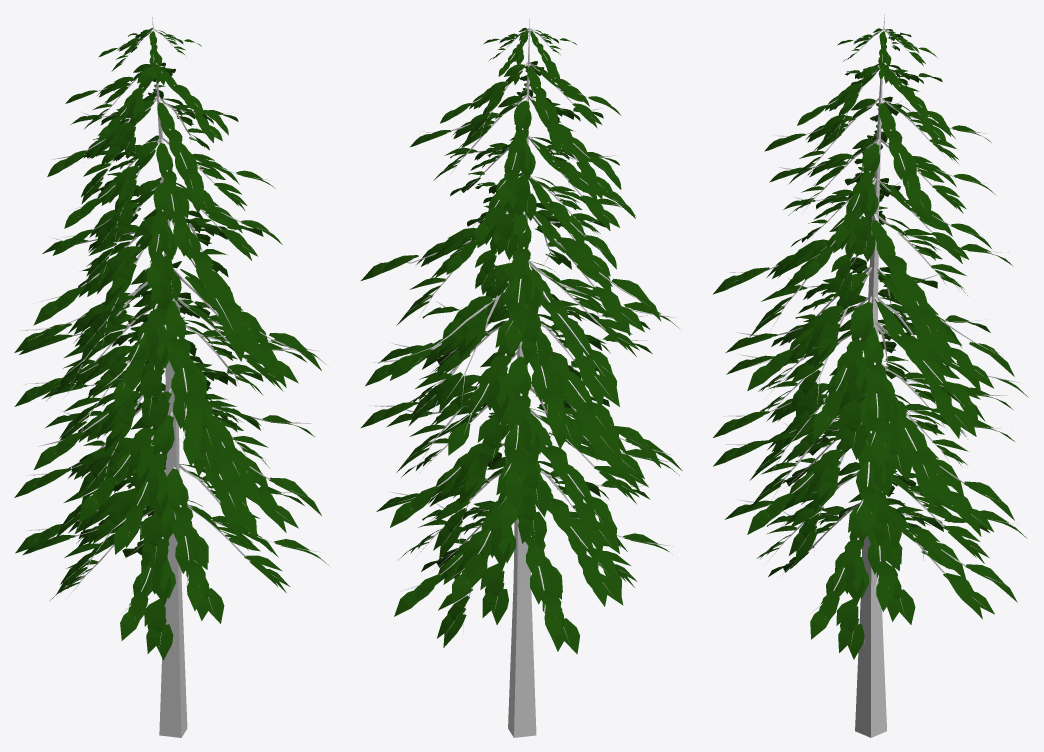
The model's file is Tree 1.fbx.
The picture shows the model from 3 angles, left to right: view 1: azimuth 30°, elevation 25°; view 2: azimuth 150°, elevation 25°; view 3: azimuth 270°, elevation 25°; orthographic projection. The views are drawn at different scales.
Visible parts, largest first — view 1: good tree 1 leaves, good tree 1; view 2: good tree 1 leaves, good tree 1; view 3: good tree 1 leaves, good tree 1.
Boxes of the visible parts, x1=… form: good tree 1 leaves: x1=14, y1=27, x2=328, y2=660; good tree 1: x1=18, y1=17, x2=324, y2=737; good tree 1 leaves: x1=361, y1=27, x2=682, y2=654; good tree 1: x1=369, y1=19, x2=675, y2=737; good tree 1 leaves: x1=713, y1=28, x2=1028, y2=659; good tree 1: x1=723, y1=14, x2=1018, y2=737.
Size of the model in its own units: 1833 by 4529 by 1833.
